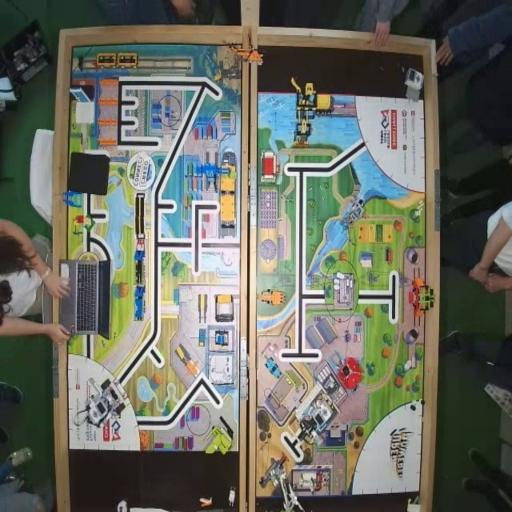lego_robot: (288, 382, 338, 456), (77, 376, 127, 432)
